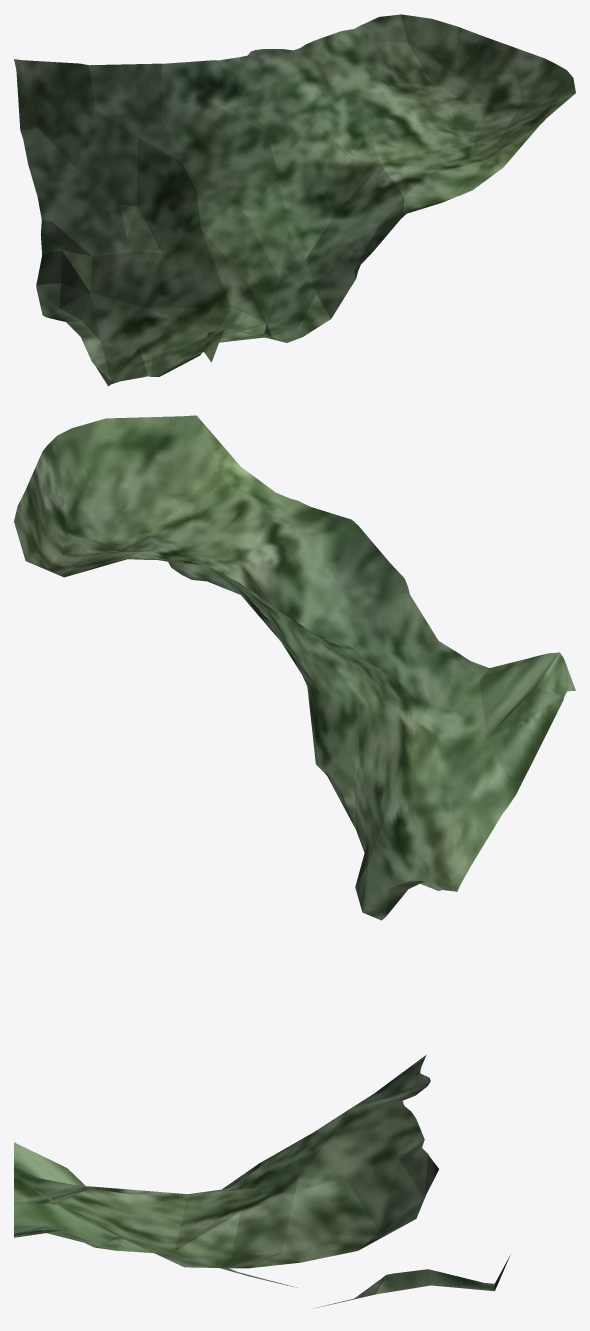
3 renders of one model, top to bottom at view 1: azimuth 30°, elevation 25°; view 2: azimuth 150°, elevation 25°; view 3: azimuth 270°, elevation 25°, orthographic. The views are drawn at different scales.
Size of the model in its own units: 3.12 by 1.91 by 2.65.
Materials: 1 (1 with a texture image).
